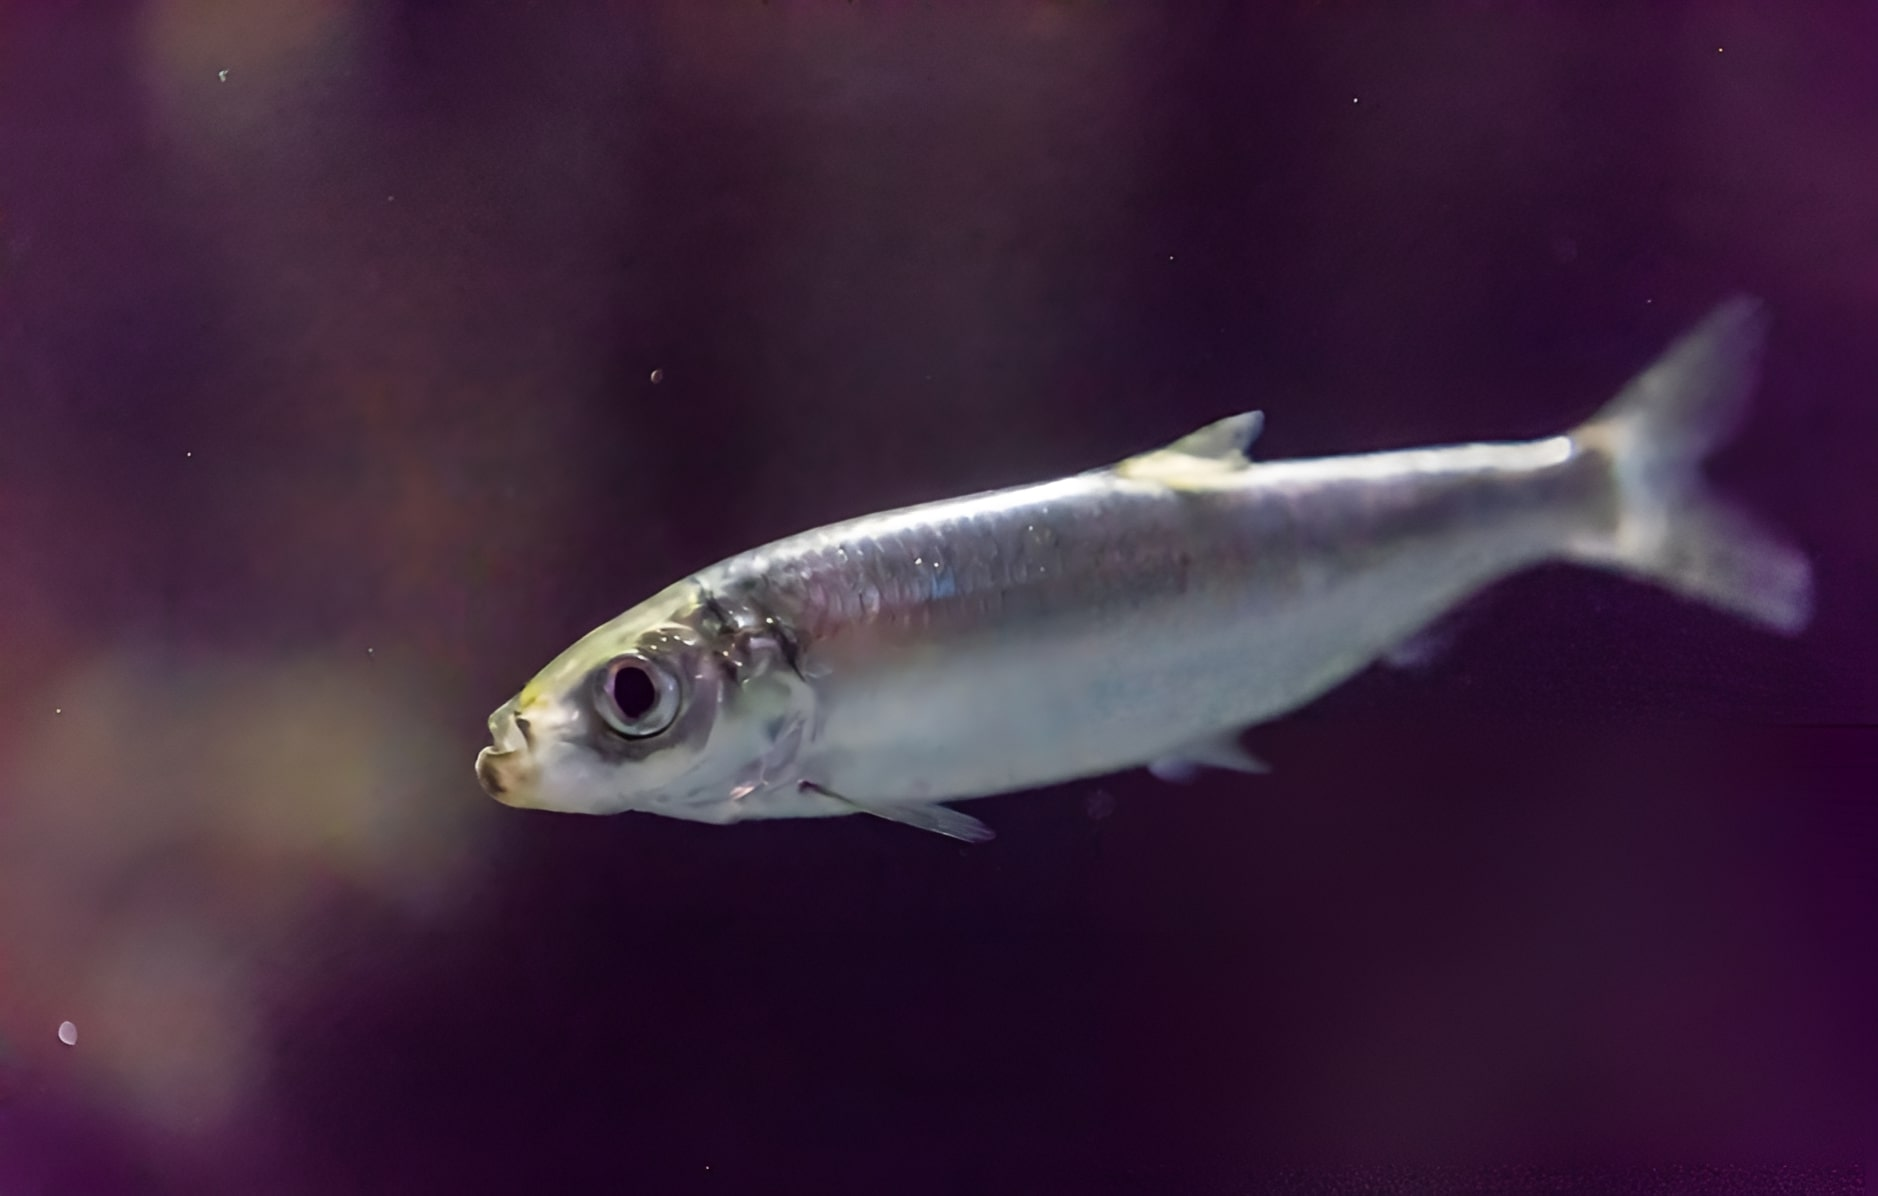Pecific herring: (469, 281, 1827, 846)
